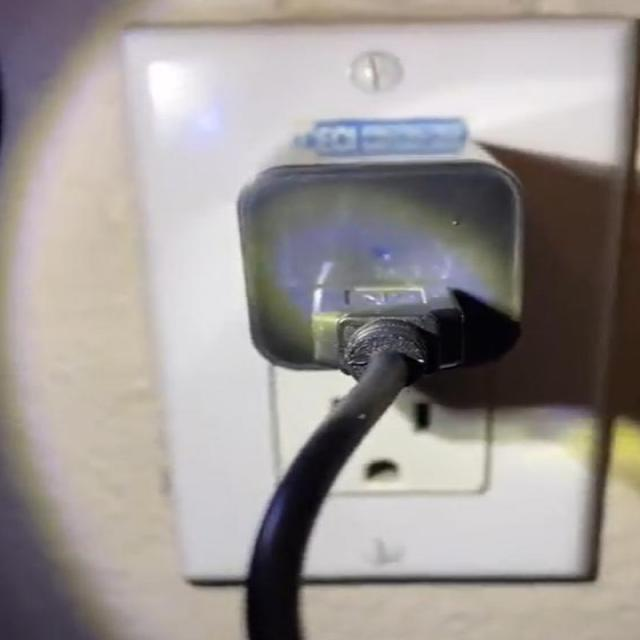hidden camera: (356, 234, 413, 283)
